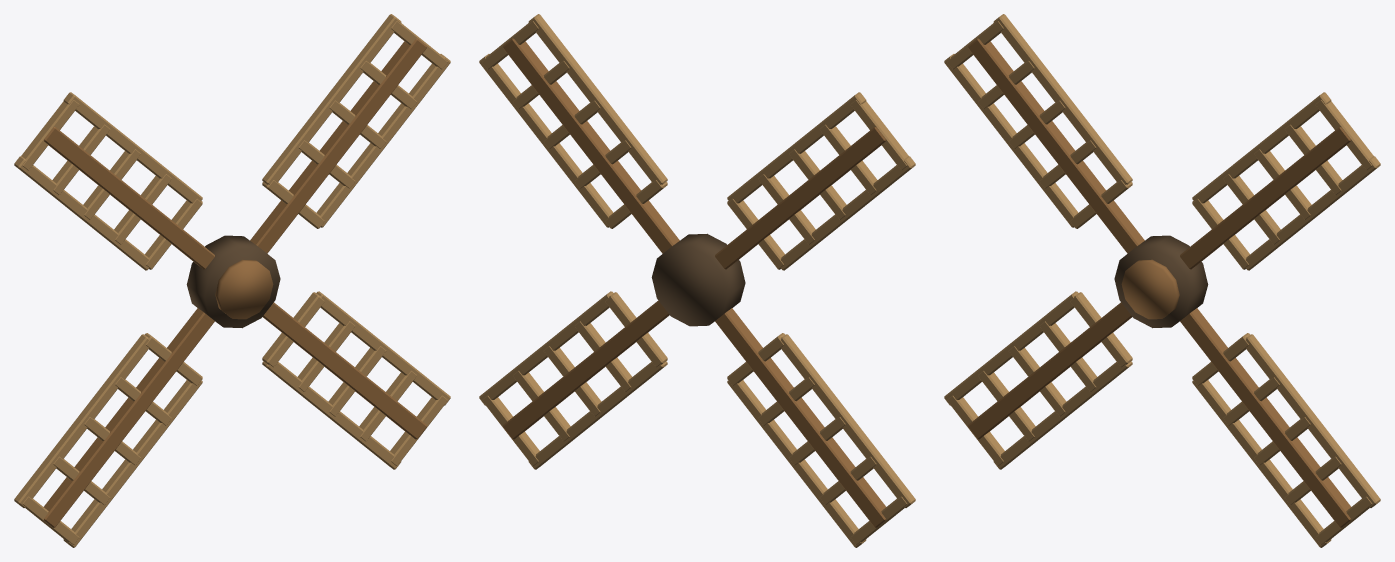
The model's file is deco_windmill_sails.glb.
3 renders of one model, left to right at view 1: azimuth 30°, elevation 25°; view 2: azimuth 150°, elevation 25°; view 3: azimuth 330°, elevation 25°, orthographic.
Visible parts, largest first — view 1: deco_windmill_sails; view 2: deco_windmill_sails; view 3: deco_windmill_sails.
Part boxes in pixels (bbox=[...]): deco_windmill_sails: bbox=[14, 14, 450, 547]; deco_windmill_sails: bbox=[479, 14, 915, 547]; deco_windmill_sails: bbox=[944, 14, 1380, 547].
Bounding box in the file's own units: 0.9525 × 0.9525 × 0.081.
